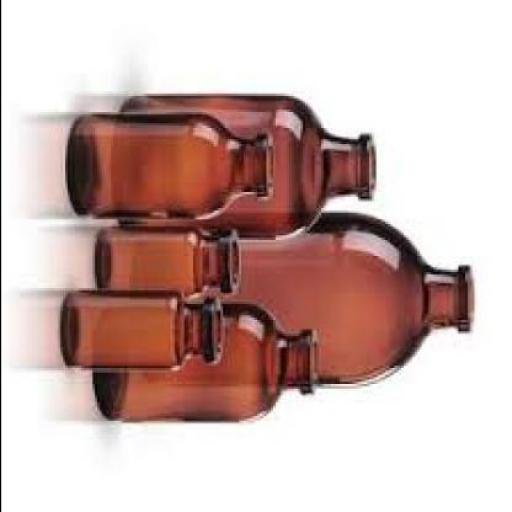glass: (207, 212, 476, 388), (114, 94, 377, 242), (87, 306, 318, 424), (66, 114, 277, 222), (59, 295, 224, 372), (96, 226, 240, 304)
